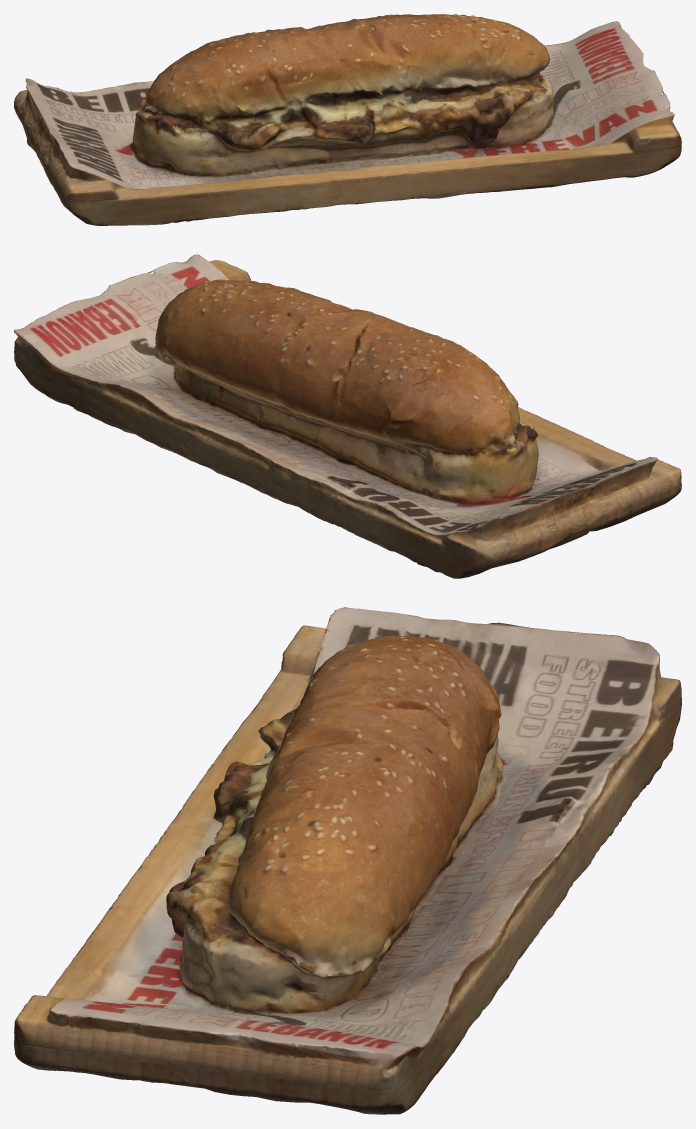
Rendered from sandvich.01.glb.
The picture shows the model from 3 angles, top to bottom: view 1: azimuth 30°, elevation 25°; view 2: azimuth 150°, elevation 25°; view 3: azimuth 270°, elevation 25°; orthographic projection. The views are drawn at different scales.
Visible parts, largest first — view 1: /Root/Scenes/Scene/Object_37/Object_38/Submesh_0; view 2: /Root/Scenes/Scene/Object_37/Object_38/Submesh_0; view 3: /Root/Scenes/Scene/Object_37/Object_38/Submesh_0.
Part boxes in pixels (<box>): /Root/Scenes/Scene/Object_37/Object_38/Submesh_0: <box>14,14,681,225</box>; /Root/Scenes/Scene/Object_37/Object_38/Submesh_0: <box>14,254,681,578</box>; /Root/Scenes/Scene/Object_37/Object_38/Submesh_0: <box>14,607,681,1114</box>.
Size of the model in its own units: 0.3711 by 0.0759 by 0.2331.
Materials: 2 (1 with a texture image).
